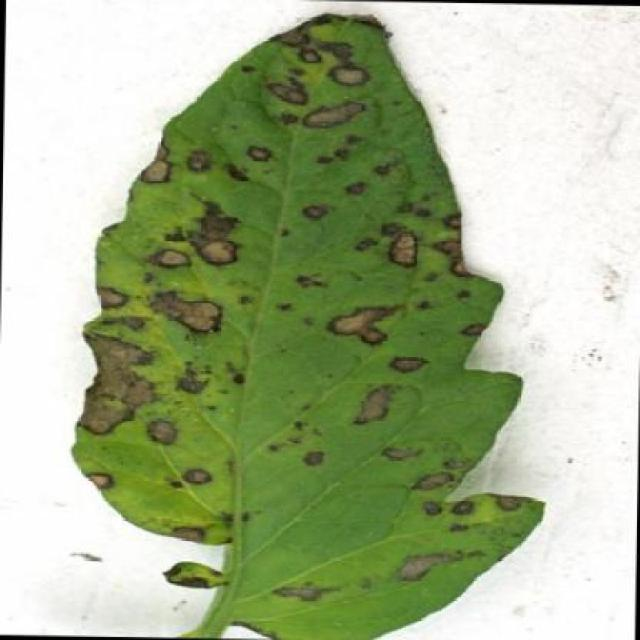Septoria leaf spot: (57, 12, 575, 637)
